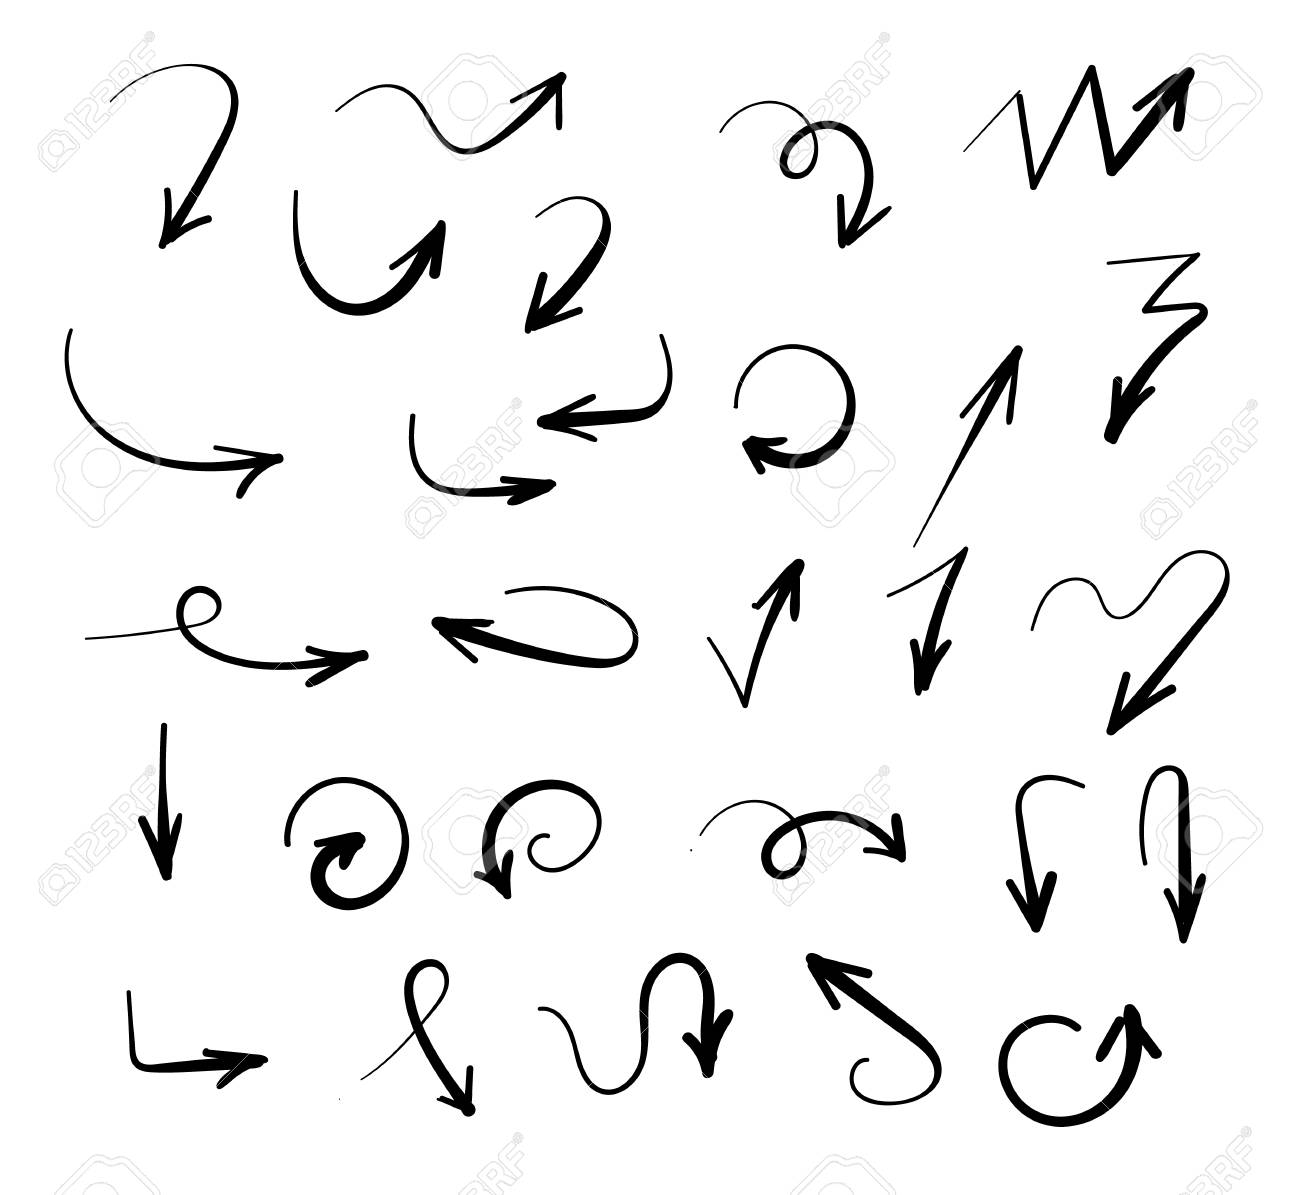arrow: (58, 317, 290, 506), (1024, 540, 1235, 739), (963, 51, 1212, 214), (79, 577, 377, 697), (529, 945, 738, 1104), (708, 89, 900, 261), (101, 57, 245, 258), (903, 338, 1028, 560), (789, 944, 953, 1108), (324, 58, 578, 162), (342, 953, 489, 1125), (281, 181, 457, 324), (692, 789, 925, 896), (1091, 249, 1213, 449), (990, 995, 1168, 1129), (424, 575, 644, 676), (722, 334, 866, 485), (274, 769, 417, 914), (467, 774, 613, 910), (110, 982, 280, 1099), (700, 550, 810, 720), (396, 406, 563, 515), (534, 330, 685, 449), (1123, 756, 1214, 951), (995, 767, 1091, 945), (516, 190, 616, 342), (884, 547, 975, 702), (129, 719, 190, 885)
